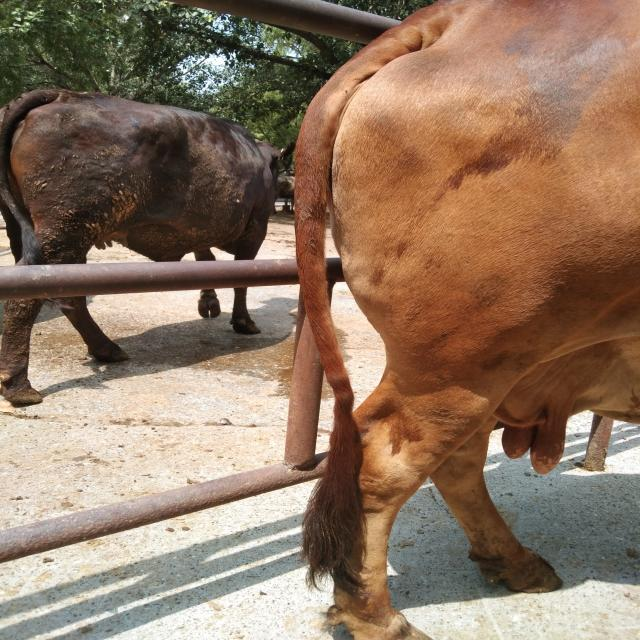Hoof: (2, 385, 43, 406)
